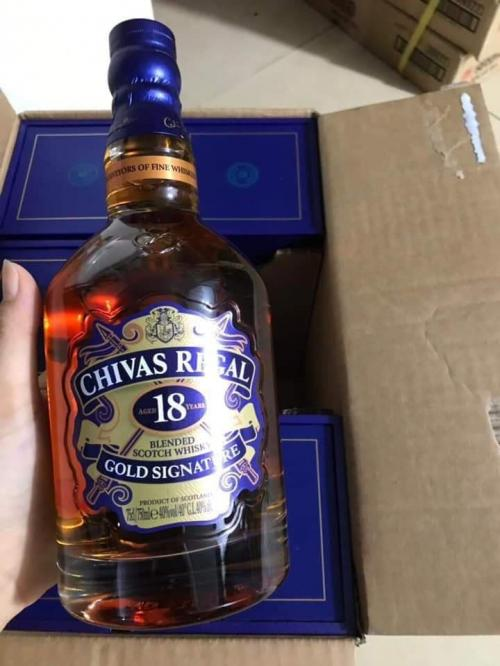Chivas Regal: (29, 11, 299, 656)
